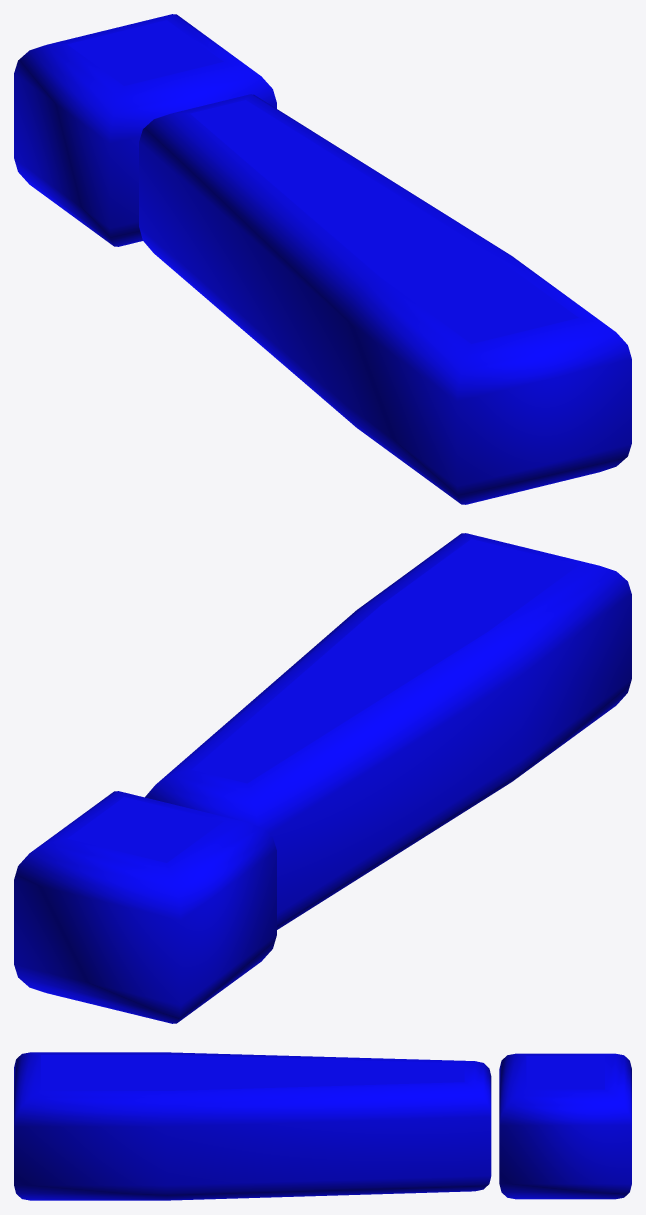
3 renders of one model, top to bottom at view 1: azimuth 30°, elevation 25°; view 2: azimuth 150°, elevation 25°; view 3: azimuth 270°, elevation 25°, orthographic. The views are drawn at different scales.
Parts seen in each view (by area): view 1: texto; view 2: texto; view 3: texto.
Boxes of the visible parts, box(x1,y1,x2,y2) form: texto: box(14, 14, 631, 504); texto: box(14, 533, 631, 1023); texto: box(14, 1052, 631, 1200).
Size of the model in its own units: 0.2599 by 0.22 by 1.15.
